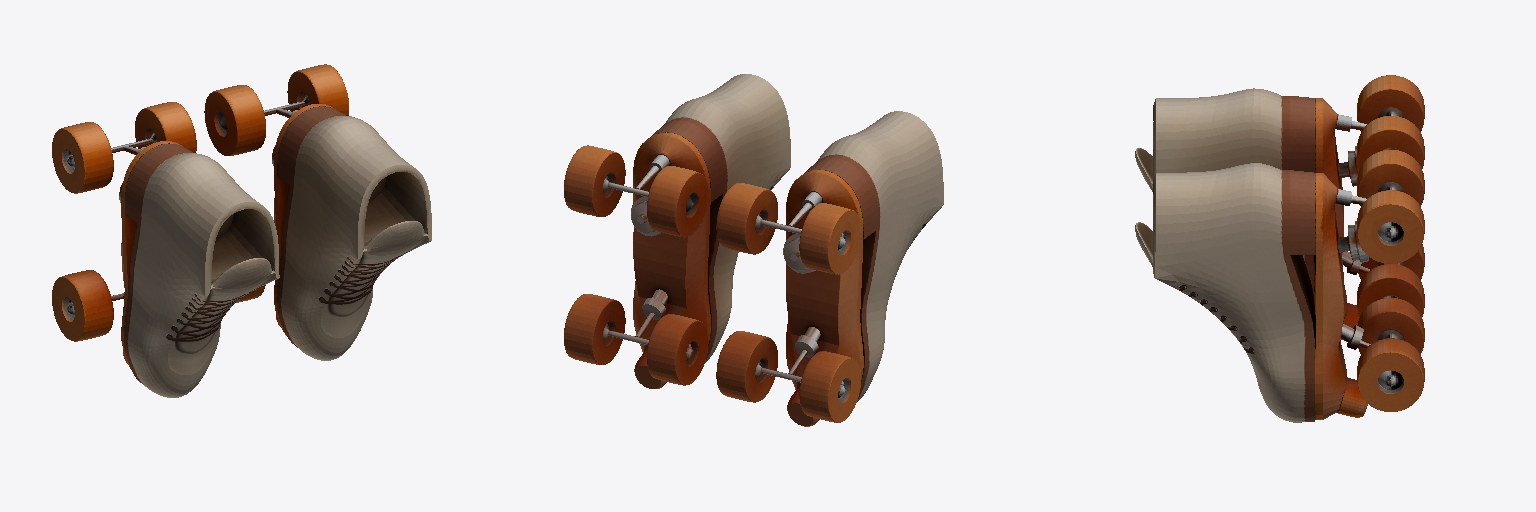
3 renders of one model, left to right at view 1: azimuth 30°, elevation 25°; view 2: azimuth 150°, elevation 25°; view 3: azimuth 270°, elevation 25°, orthographic.
Visible parts, largest first — view 1: 10524_Roller_skates_v1_SG; view 2: 10524_Roller_skates_v1_SG; view 3: 10524_Roller_skates_v1_SG.
Part boxes in pixels (left/top/right/bottom): 10524_Roller_skates_v1_SG: left=52, top=64, right=431, bottom=397; 10524_Roller_skates_v1_SG: left=564, top=74, right=943, bottom=426; 10524_Roller_skates_v1_SG: left=1135, top=75, right=1424, bottom=422.
Bounding box in the file's own units: 20.02 × 18.23 × 18.88.
Materials: 1 (1 with a texture image).